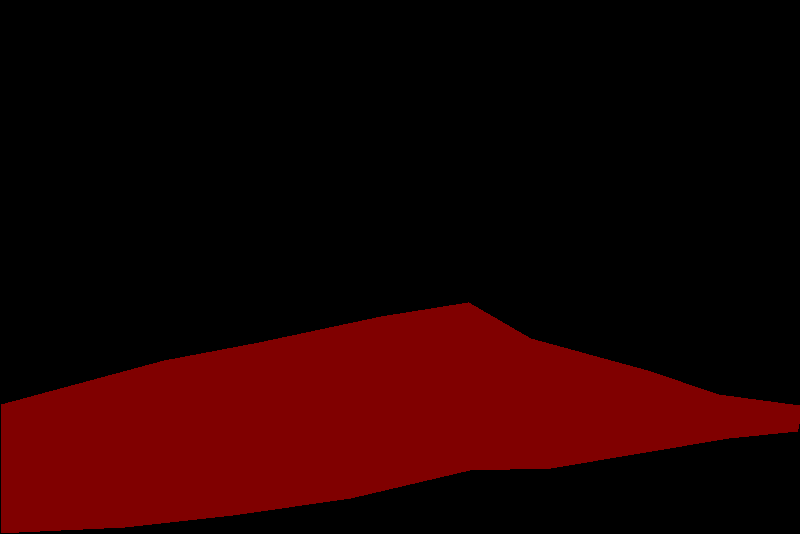fire: (1, 302, 800, 532)
